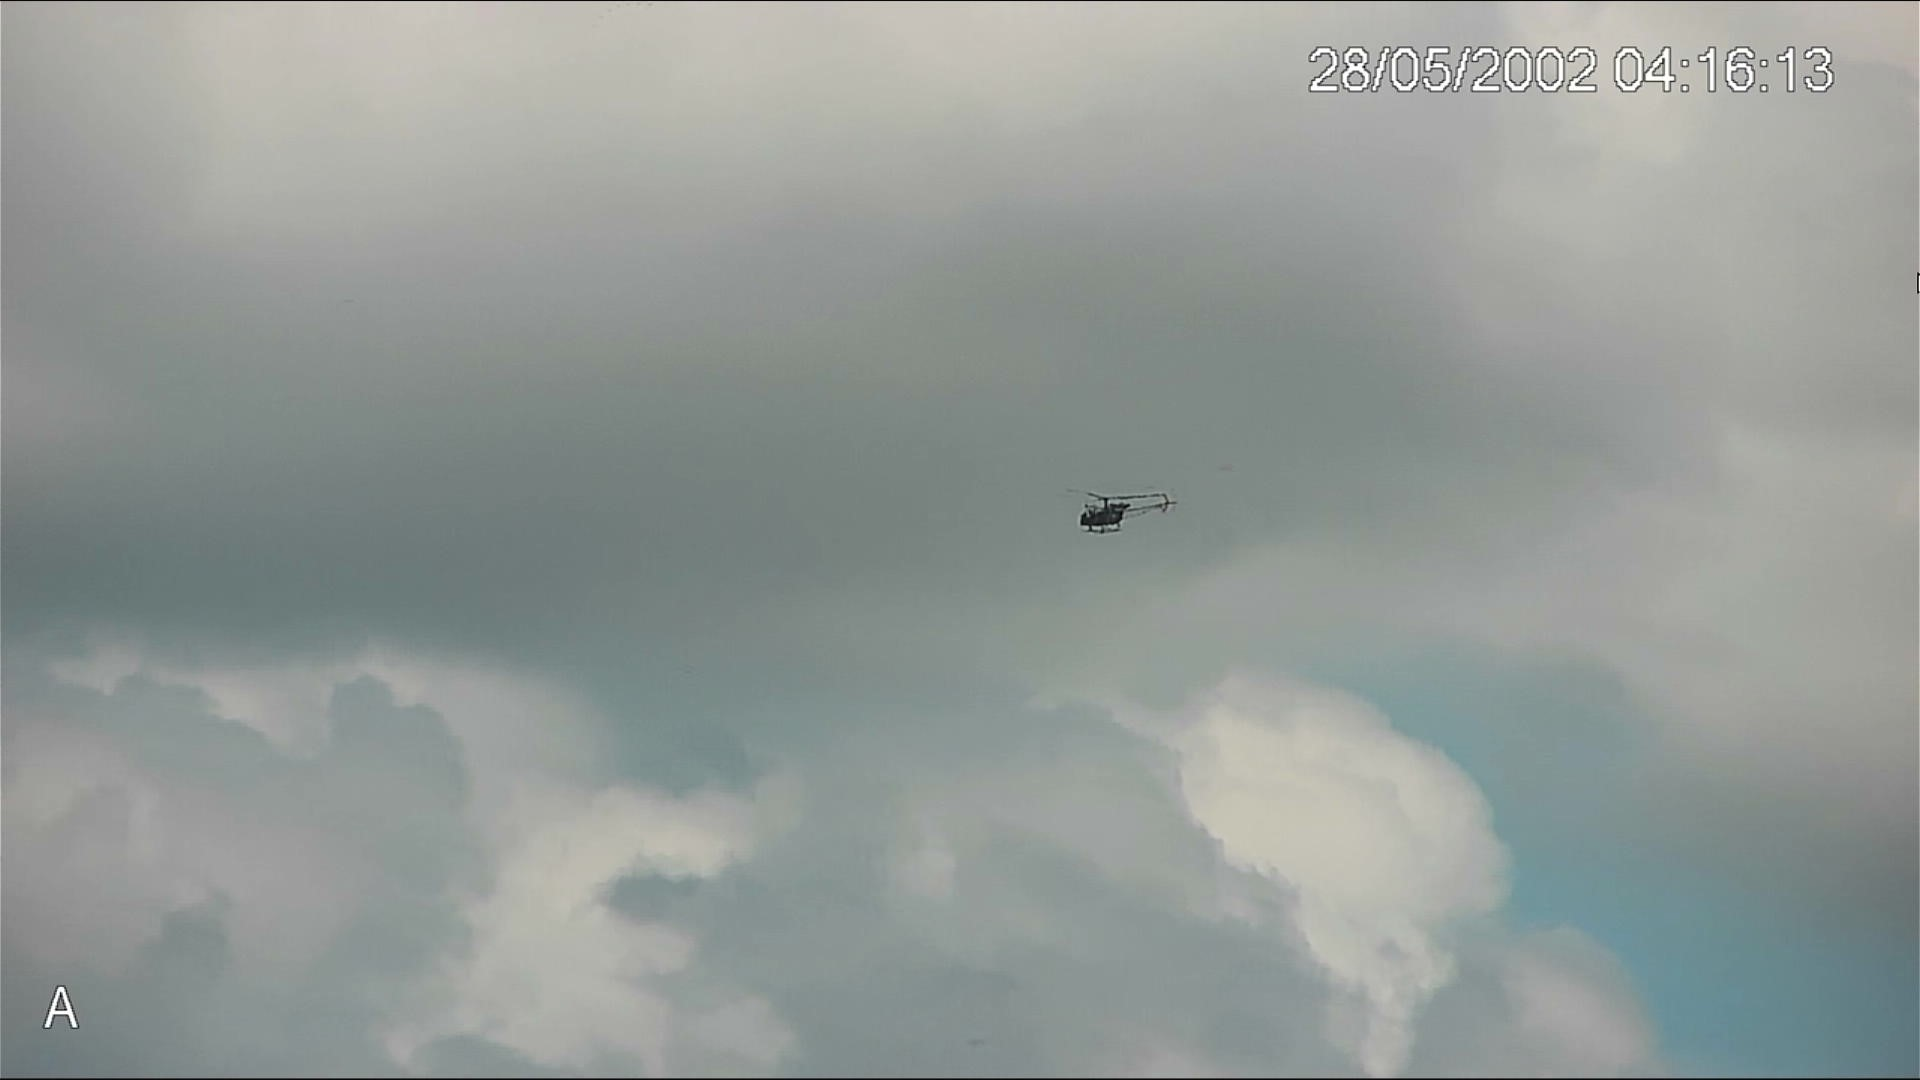SU_30: (1069, 491, 1175, 535)
